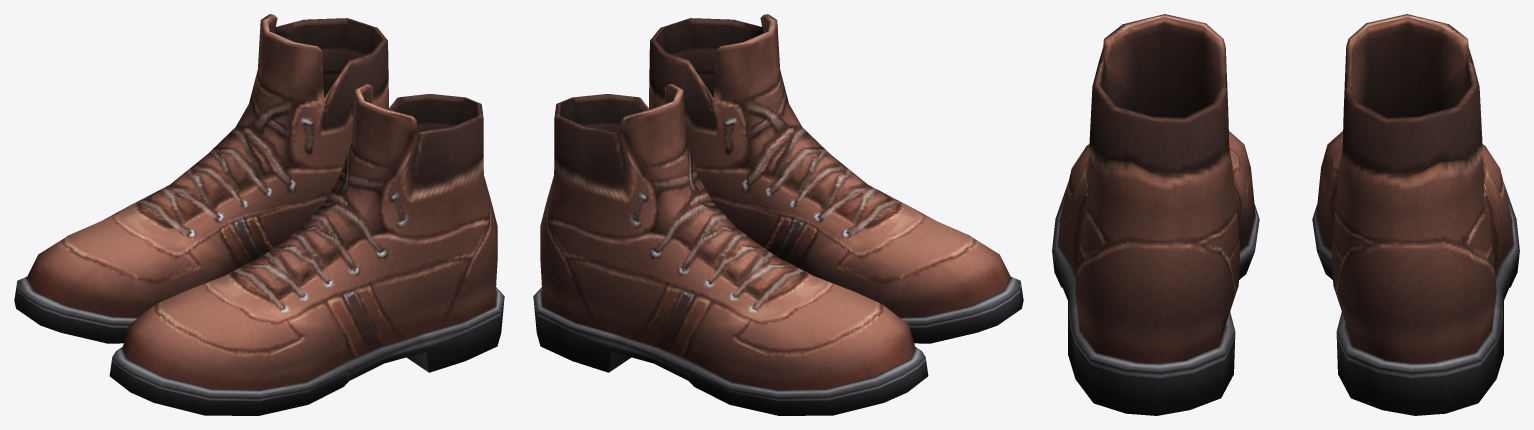
Rendered from ChuCangShi_01_xuezi_01.FBX.
3 views of the same model, side by side, from view 1: azimuth 30°, elevation 25°; view 2: azimuth 150°, elevation 25°; view 3: azimuth 270°, elevation 25° (orthographic). The views are drawn at different scales.
Visible parts, largest first — view 1: ChuCangShi_01_xuezi_01; view 2: ChuCangShi_01_xuezi_01; view 3: ChuCangShi_01_xuezi_01.
Boxes of the visible parts, x1,y1,x2,y2 form: ChuCangShi_01_xuezi_01: [14, 14, 504, 415]; ChuCangShi_01_xuezi_01: [533, 14, 1023, 415]; ChuCangShi_01_xuezi_01: [1052, 14, 1519, 415].
Size of the model in its own units: 215 by 138 by 182.
1 material, 1 textured.
